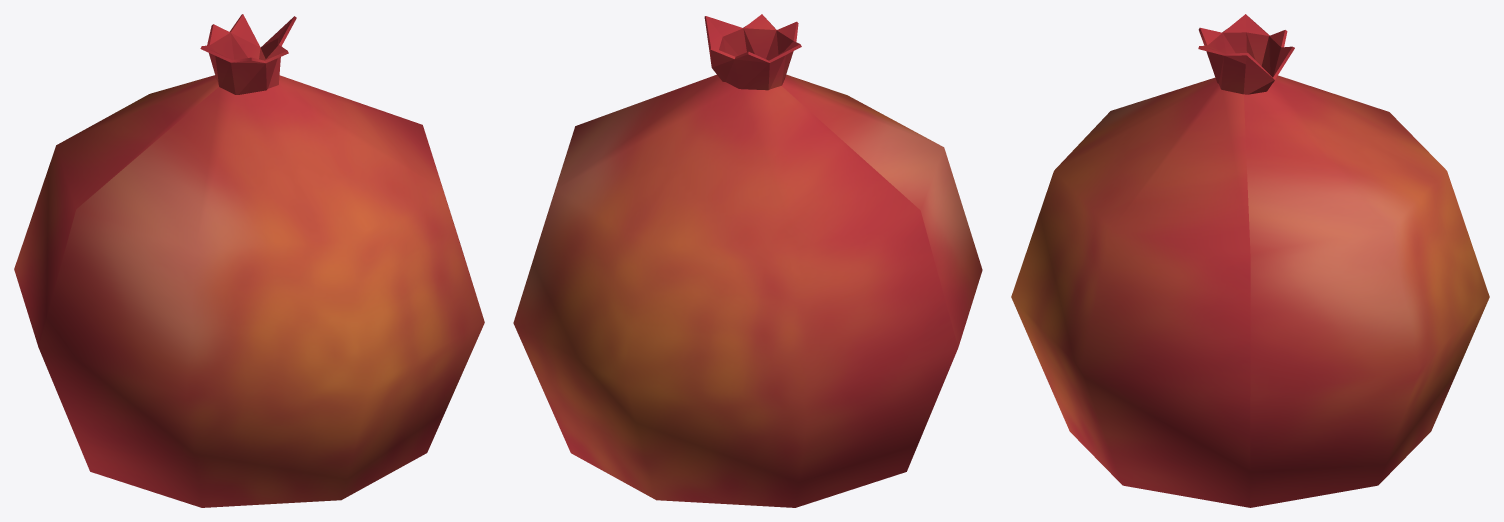
Rendered from pomegranate.FBX.
The picture shows the model from 3 angles, left to right: view 1: azimuth 30°, elevation 25°; view 2: azimuth 150°, elevation 25°; view 3: azimuth 270°, elevation 25°; orthographic projection.
Visible parts, largest first — view 1: Pomegranate; view 2: Pomegranate; view 3: Pomegranate.
Boxes of the visible parts, x1,y1,x2,y2 form: Pomegranate: (14,14,484,507); Pomegranate: (513,14,982,507); Pomegranate: (1011,14,1489,507).
Size of the model in its own units: 8.61 by 9.24 by 8.61.
